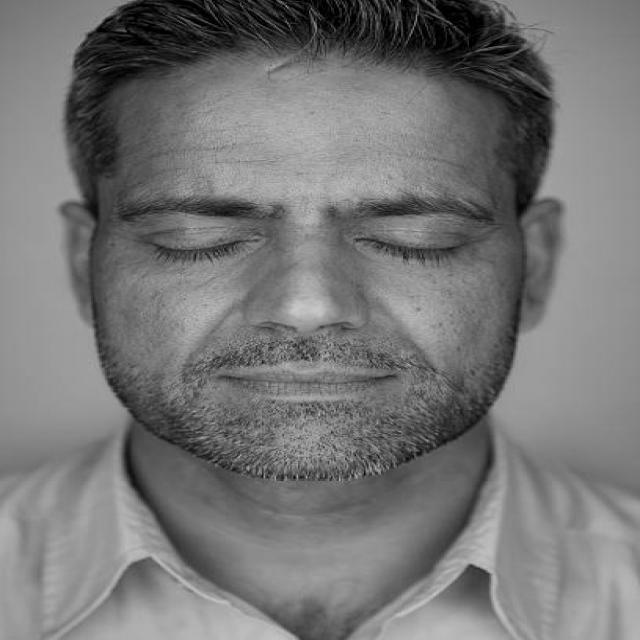real: (60, 30, 567, 488), (84, 176, 549, 275)
